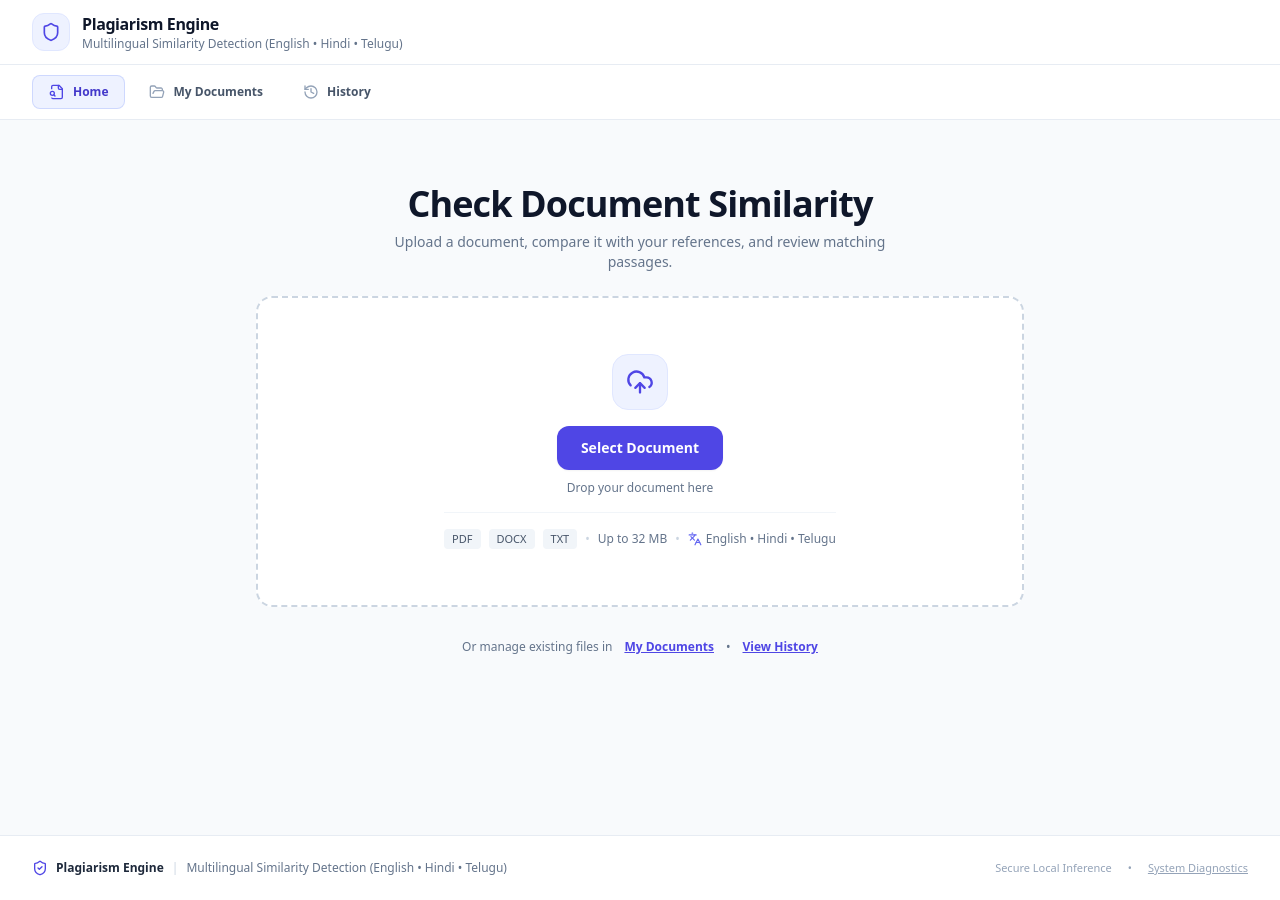
Test: App Component › switches between Home, My Documents, and History tabs smoothly
Click My Documents tab
Step 1. Click the 1st button "My Documents" → (206, 92), box x1=134 y1=75 x2=279 y2=109
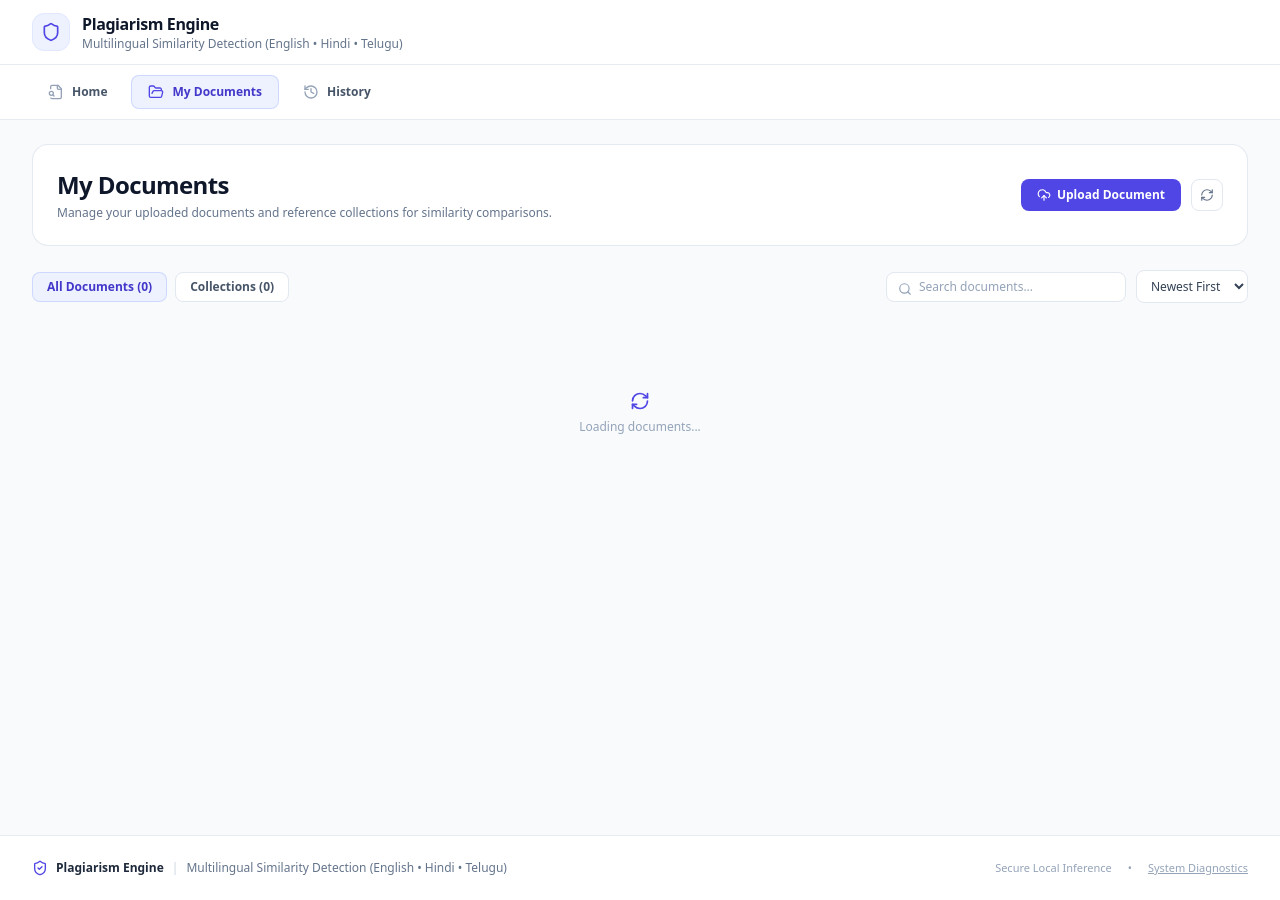
Expected: the heading "My Documents" is shown, x1=57 y1=168 x2=229 y2=201
Result: the text "Upload Document" is shown at x1=1057 y1=187 x2=1165 y2=203
Click History tab
Step 2. Click the button "History" → (337, 92), box x1=287 y1=75 x2=387 y2=109
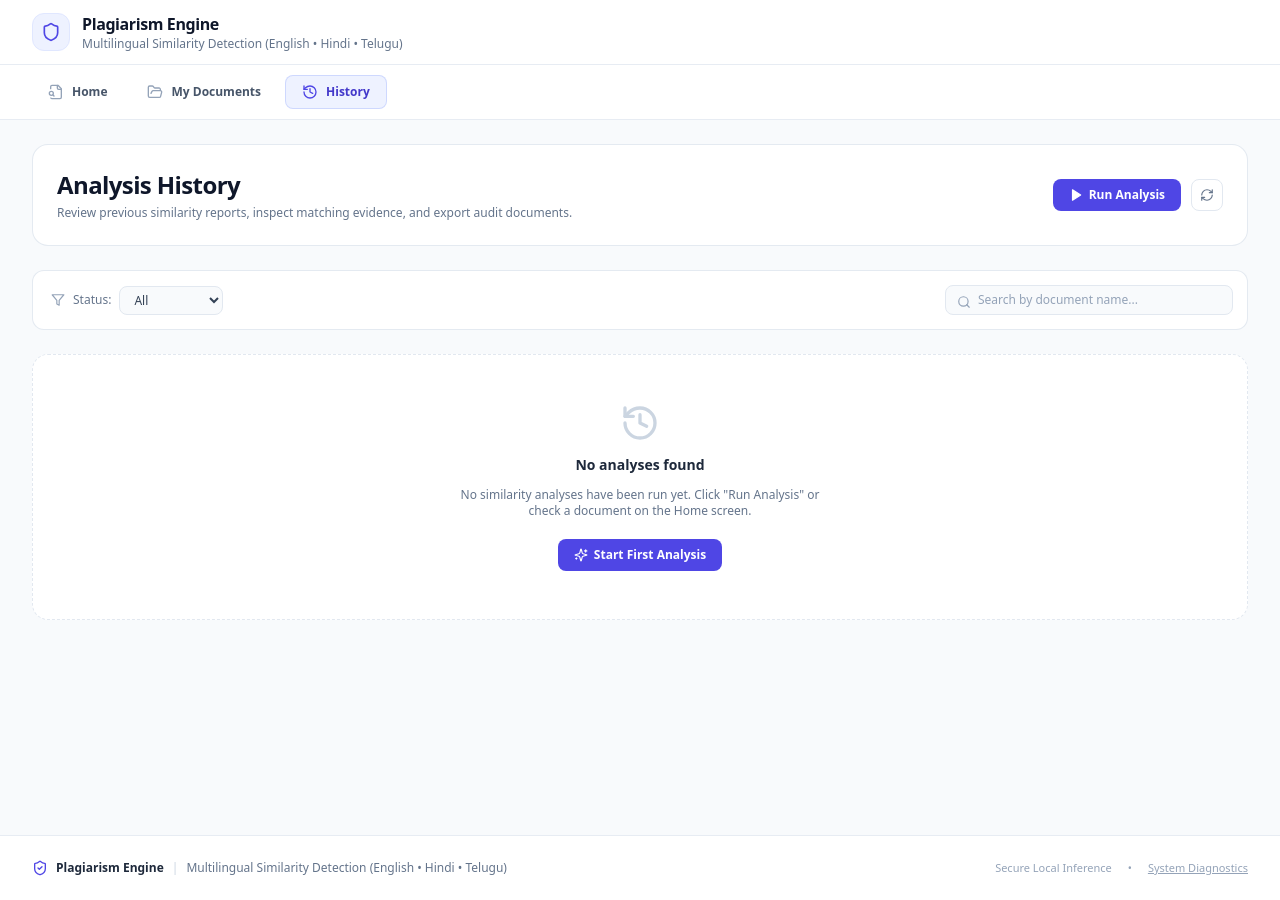
Result: the heading "Analysis History" is shown at x1=57 y1=168 x2=240 y2=201
Click Home tab
Step 3. Click the button "Home" → (78, 92), box x1=32 y1=75 x2=124 y2=109
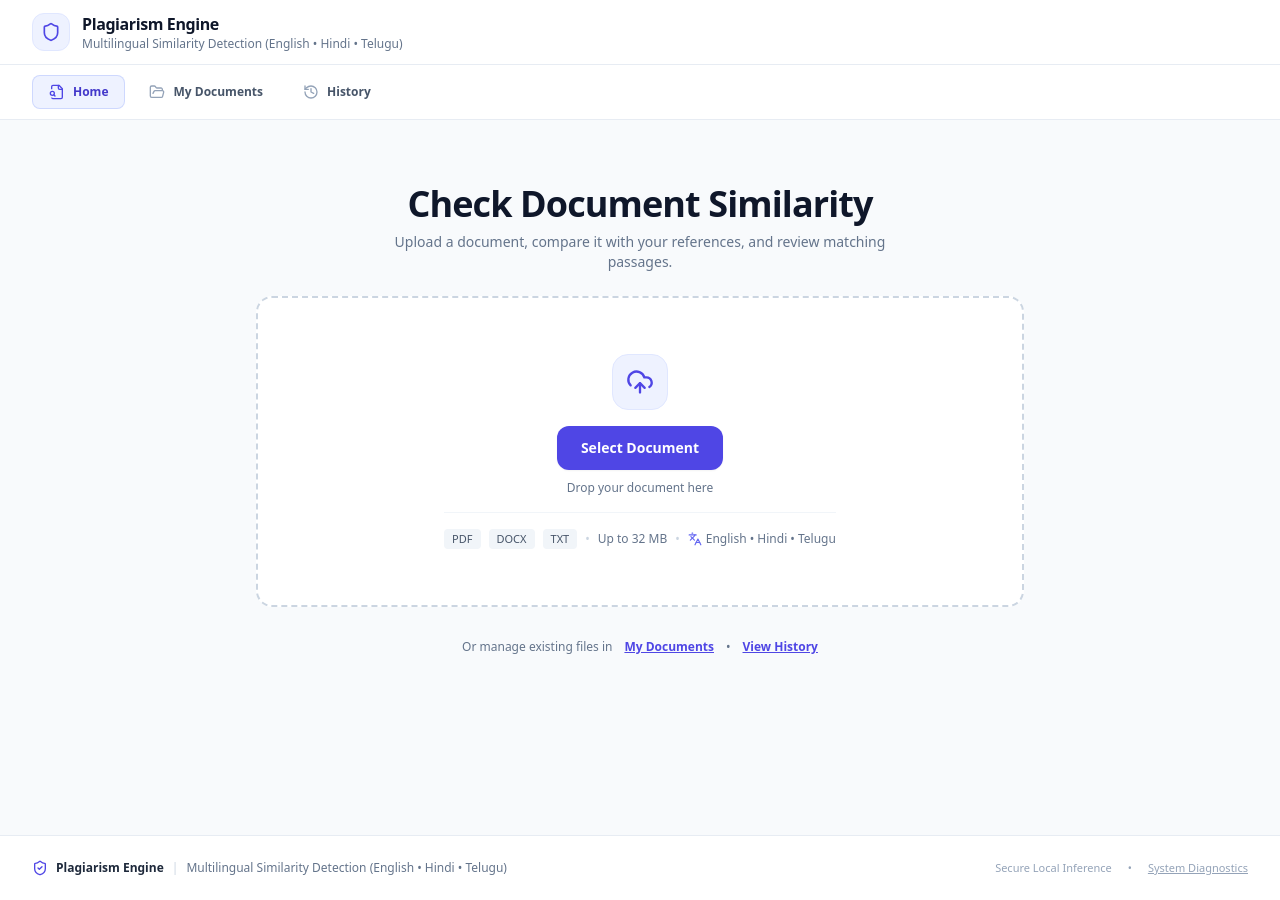
Result: the heading "Check Document Similarity" is shown at x1=407 y1=179 x2=873 y2=228
